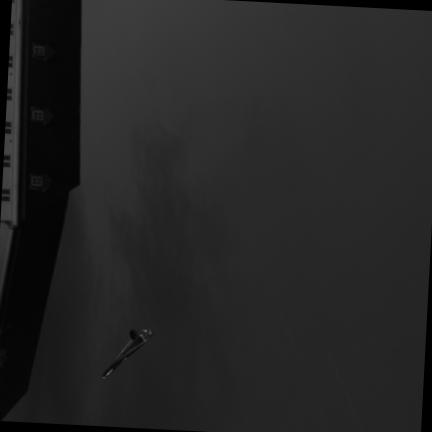Shahed: (103, 329, 152, 378)
